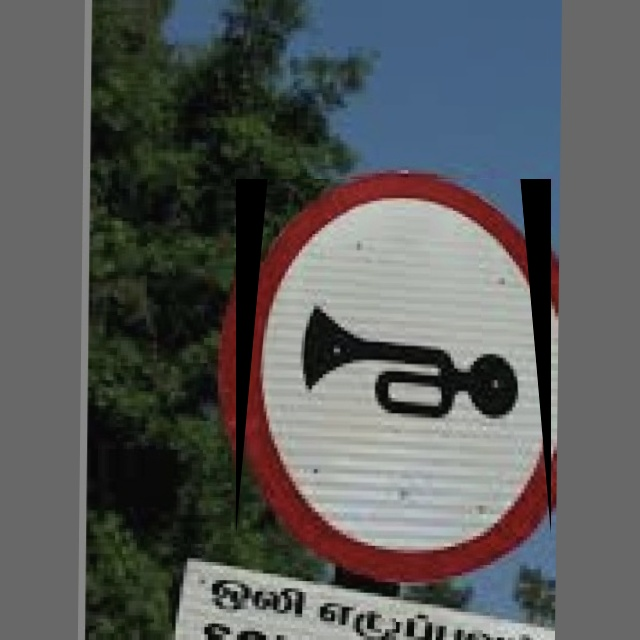Compulsory_Sound_Horn: (236, 179, 551, 535)
